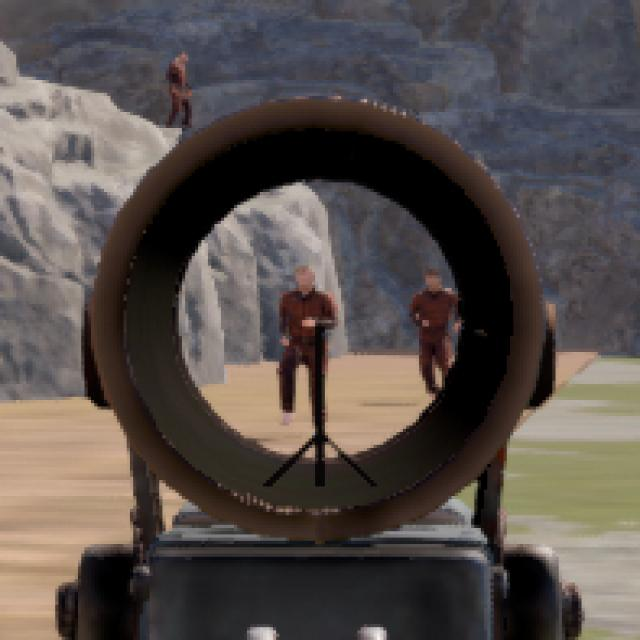Player: (279, 266, 337, 420), (410, 270, 458, 375), (167, 51, 193, 124)
